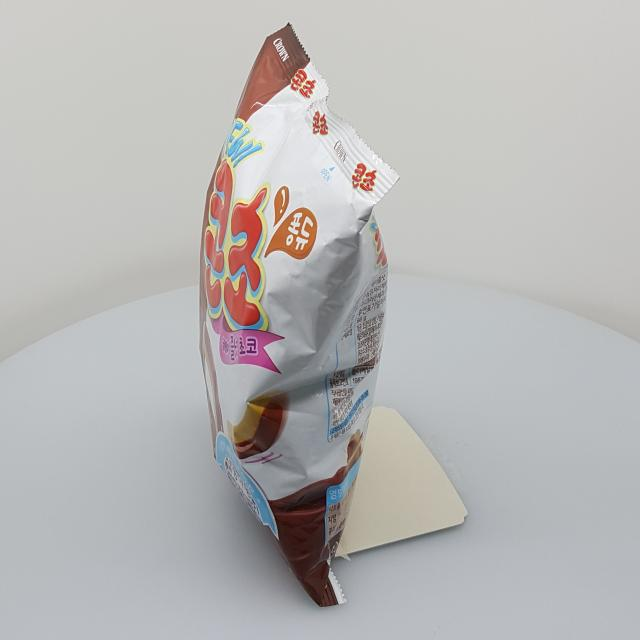-66G: (200, 23, 402, 608)
